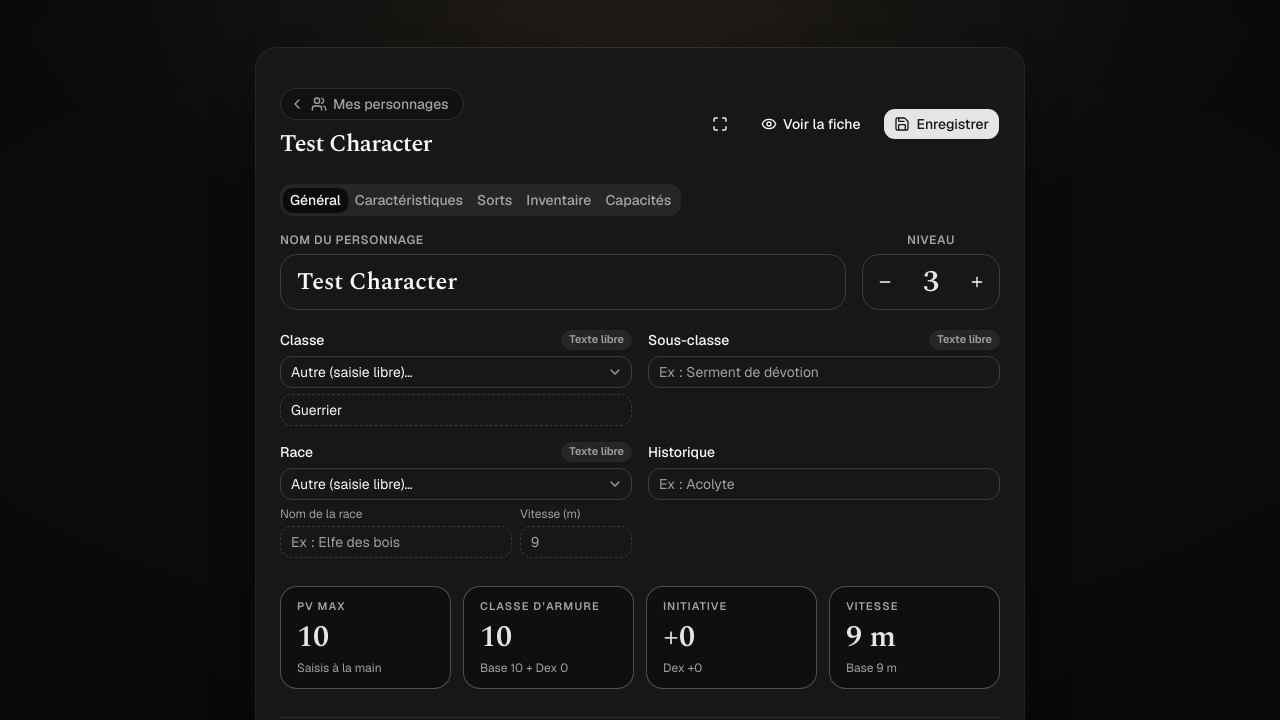
Test: CharacterSheet › computes the ability modifier and saving throw live on the Caractéristiques tab
Expected: the heading "Test Character" is shown, x1=280 y1=126 x2=432 y2=162
Click the tab "Caractéristiques": (409, 200) x1=348 y1=188 x2=470 y2=212
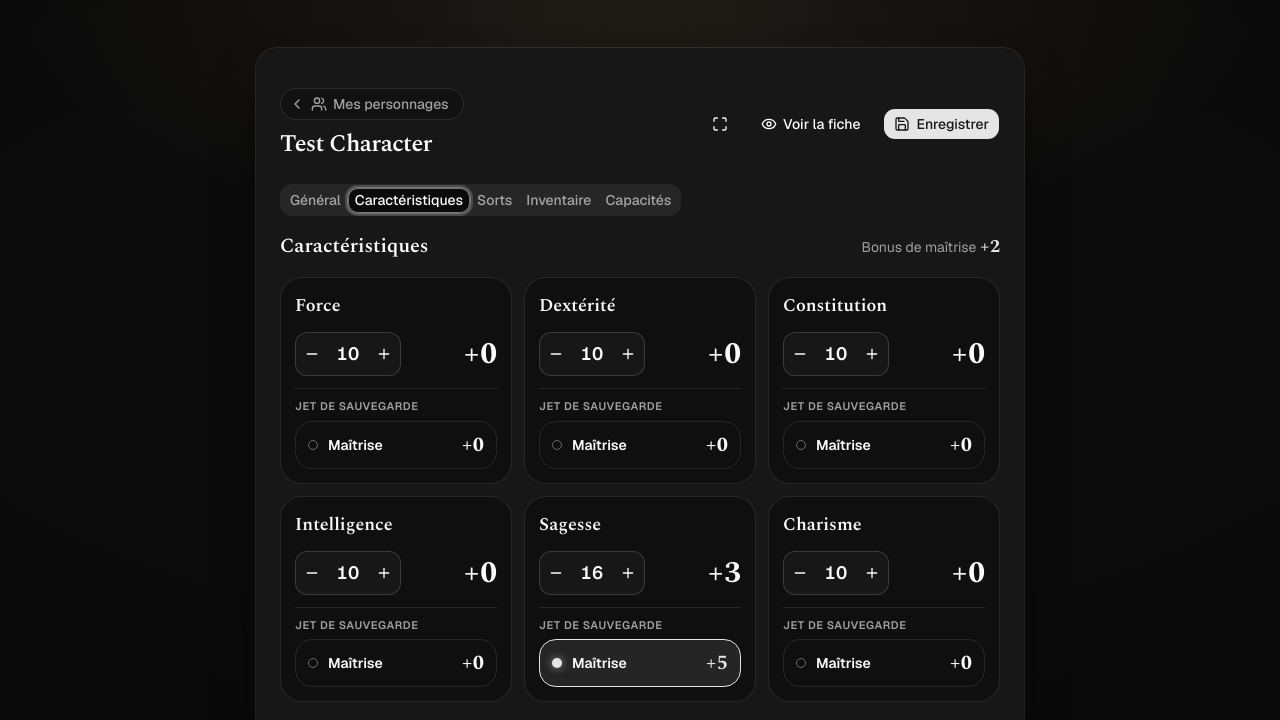
Expected: the text named "Modificateur +3" is shown, x1=707 y1=558 x2=741 y2=588
Expected: the button "Maîtrise +5" is shown, x1=539 y1=639 x2=741 y2=687
